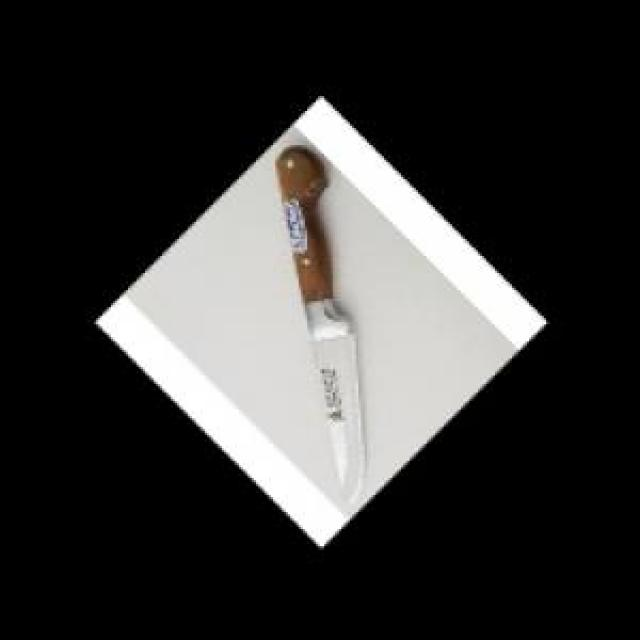knife: (273, 145, 382, 508)
